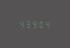four: (18, 19, 23, 27), (42, 20, 47, 28)
nine: (30, 19, 35, 28)
three: (24, 19, 29, 27)
zero: (36, 20, 41, 28)
